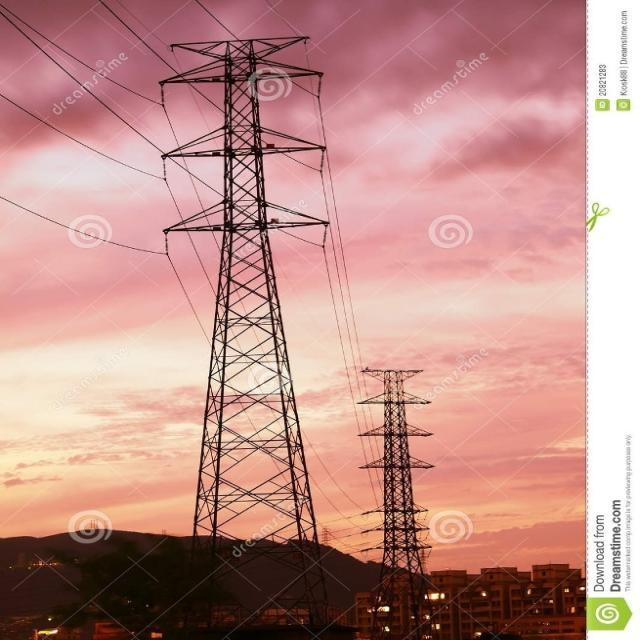non-critical vegetation: (146, 24, 312, 546), (358, 355, 434, 561)
